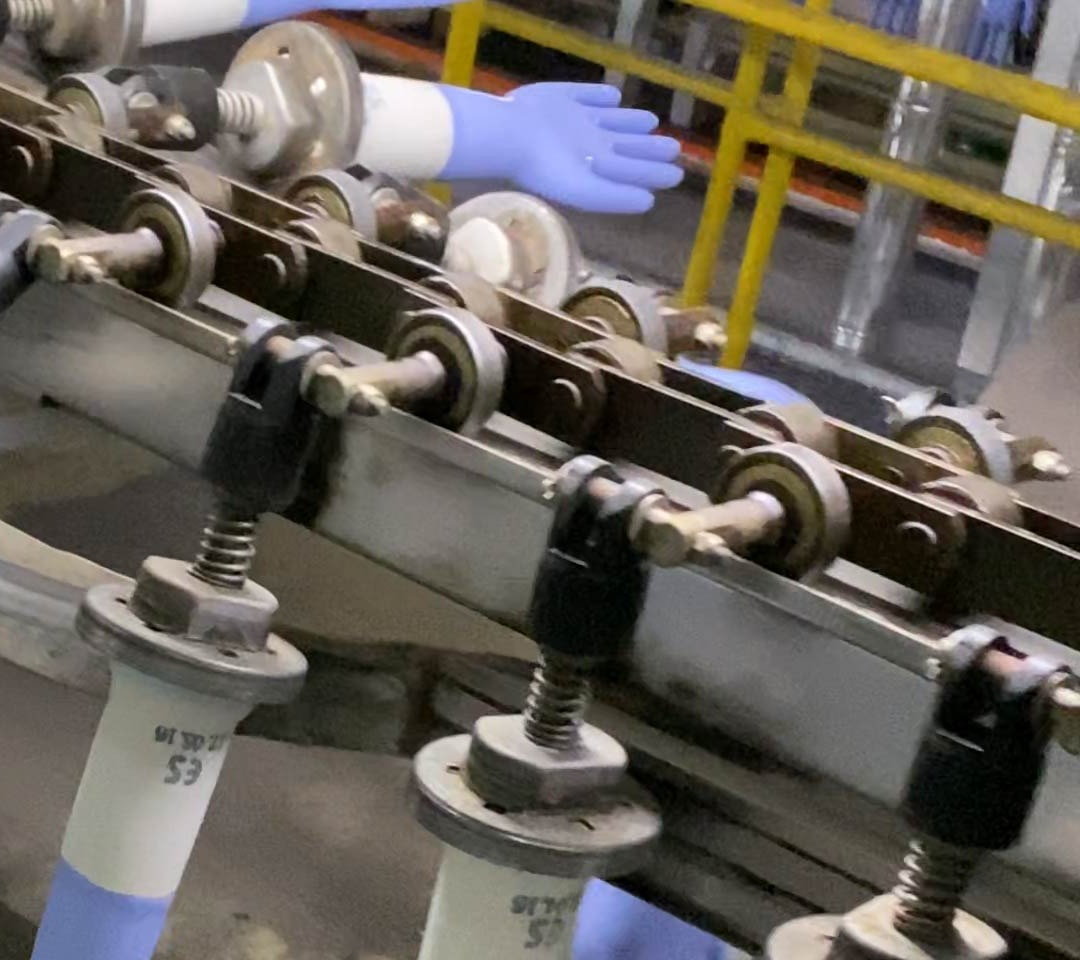glove: (436, 77, 684, 218)
